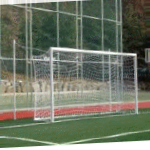goals: (32, 46, 142, 123)
